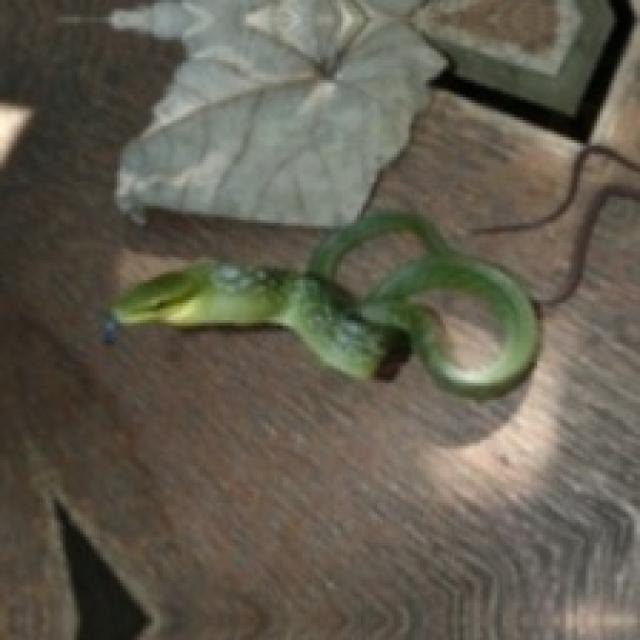red-tailed green ratsnake: (111, 211, 537, 394)
